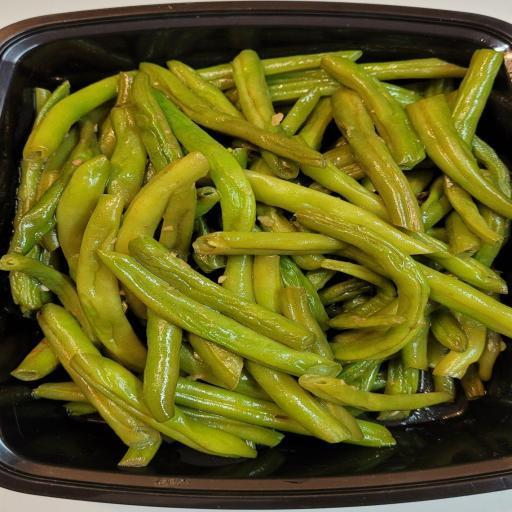buncis_rebus: (2, 44, 508, 480)
